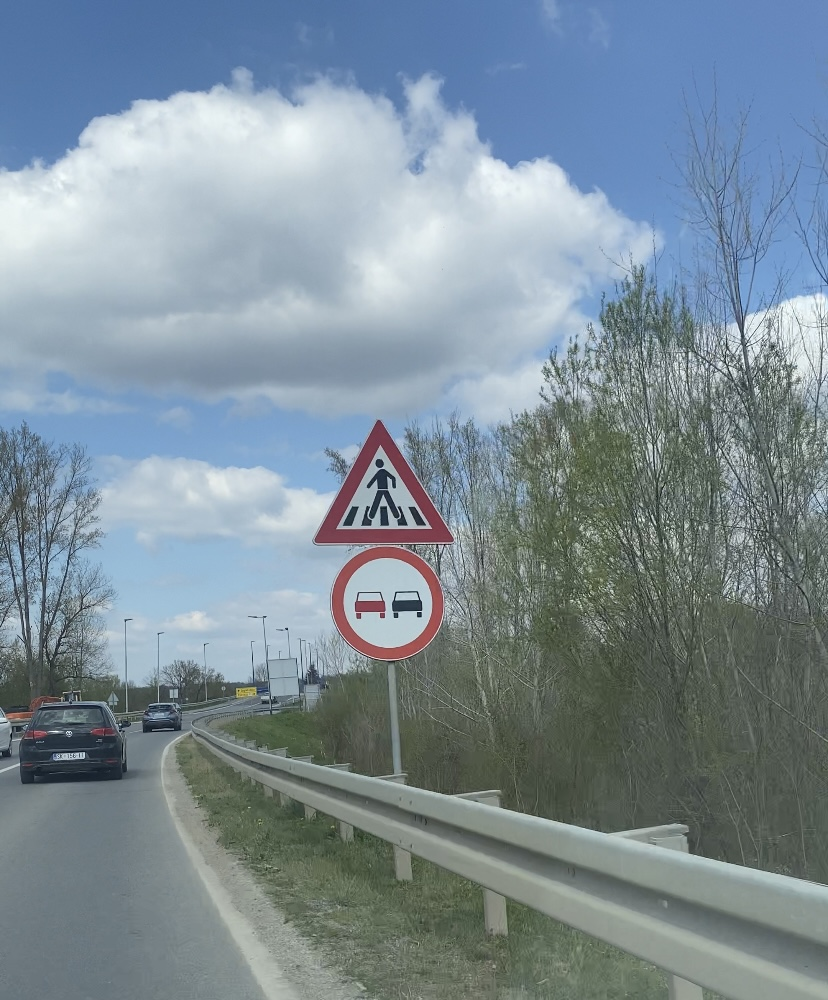Približavanje pješačkom prijelazu: (312, 419, 456, 546)
Zabrana pretjecanja: (331, 546, 445, 662)
